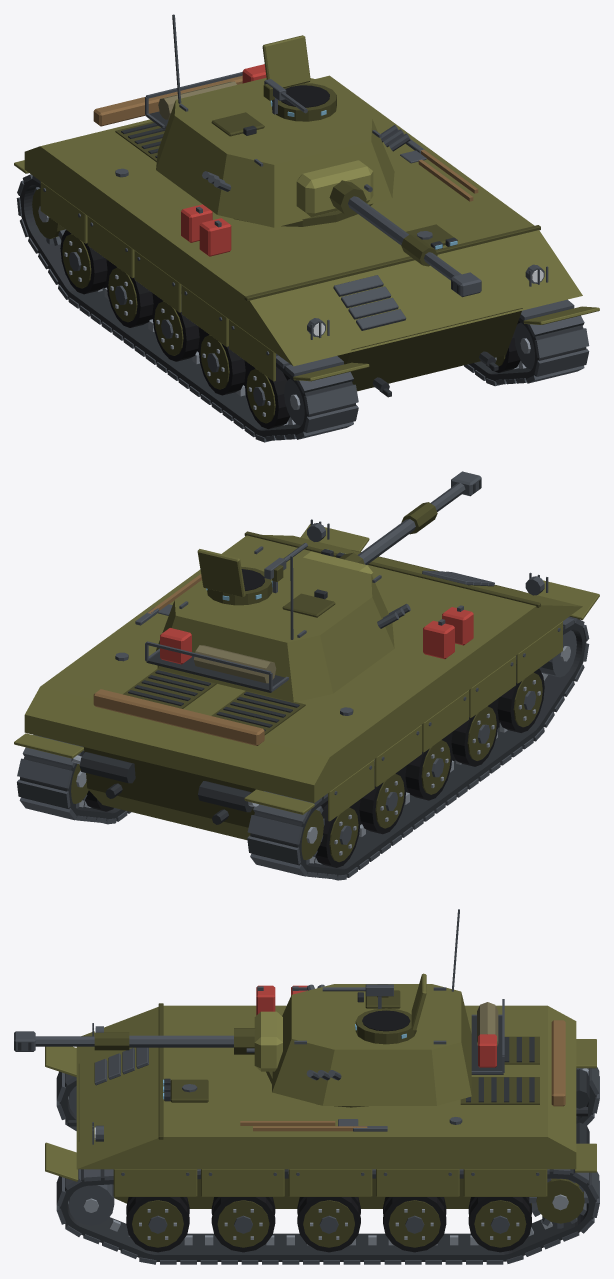
The model's file is tank.glb.
3 views of the same model, one above another, from view 1: azimuth 30°, elevation 25°; view 2: azimuth 150°, elevation 25°; view 3: azimuth 270°, elevation 25° (orthographic). The views are drawn at different scales.
Parts seen in each view (by area): view 1: pieces_kaki.002, tourelle_kaki.002, pieces_acier_sombre.006, pieces_kaki_sombre.002, pieces_fonte.006, tourelle_acier_sombre.002, tourelle_kaki_sombre.002, tourelle_kaki_clair.002, pieces_bois.006, pieces_rouge.006, roue_d3_noir.002, roue_d5_noir.002 (+11 smaller); view 2: pieces_kaki.002, tourelle_kaki.002, pieces_fonte.006, pieces_kaki_sombre.002, pieces_acier_sombre.006, tourelle_acier_sombre.002, pieces_bois.006, tourelle_kaki_sombre.002, pieces_rouge.006, tourelle_bache.002, tourelle_fonte.002, roue_d4_noir.002 (+12 smaller); view 3: pieces_kaki.002, tourelle_kaki.002, pieces_fonte.006, pieces_acier_sombre.006, pieces_kaki_sombre.002, tourelle_acier_sombre.002, tourelle_kaki_sombre.002, pieces_bois.006, roue_g2_kaki_sombre.002, roue_g5_kaki_sombre.002, roue_g4_kaki_sombre.002, roue_g3_kaki_sombre.002 (+13 smaller).
Part boxes in pixels (x1,y1,x2,y2): pieces_kaki.002: (14, 75, 599, 381); tourelle_kaki.002: (156, 35, 394, 227); pieces_acier_sombre.006: (16, 139, 589, 442); pieces_kaki_sombre.002: (32, 121, 540, 391); pieces_fonte.006: (20, 123, 586, 438); tourelle_acier_sombre.002: (145, 14, 481, 297); tourelle_kaki_sombre.002: (211, 83, 437, 266); tourelle_kaki_clair.002: (296, 160, 373, 216); pieces_bois.006: (93, 75, 478, 201); pieces_rouge.006: (181, 204, 231, 256); roue_d3_noir.002: (152, 292, 203, 361); roue_d5_noir.002: (60, 230, 111, 294); pieces_kaki.002: (14, 524, 599, 821); tourelle_kaki.002: (156, 549, 394, 702); pieces_fonte.006: (20, 549, 586, 876); pieces_kaki_sombre.002: (71, 531, 540, 859); pieces_acier_sombre.006: (17, 519, 589, 880); tourelle_acier_sombre.002: (145, 471, 481, 691); pieces_bois.006: (93, 574, 264, 745); tourelle_kaki_sombre.002: (207, 502, 437, 617); pieces_rouge.006: (423, 607, 473, 659); tourelle_bache.002: (194, 645, 276, 683); tourelle_fonte.002: (146, 479, 480, 692); roue_d4_noir.002: (355, 766, 406, 834); pieces_kaki.002: (45, 1005, 596, 1196); tourelle_kaki.002: (272, 973, 471, 1105); pieces_fonte.006: (59, 1037, 596, 1261); pieces_acier_sombre.006: (56, 986, 599, 1264); pieces_kaki_sombre.002: (78, 1003, 584, 1223); tourelle_acier_sombre.002: (14, 909, 504, 1080); tourelle_kaki_sombre.002: (94, 984, 416, 1107); pieces_bois.006: (240, 1020, 565, 1131); roue_g2_kaki_sombre.002: (217, 1200, 269, 1247); roue_g5_kaki_sombre.002: (474, 1200, 526, 1247); roue_g4_kaki_sombre.002: (388, 1200, 440, 1247); roue_g3_kaki_sombre.002: (303, 1200, 354, 1247).
Bounding box in the file's own units: 2.49 × 2.31 × 4.62.
